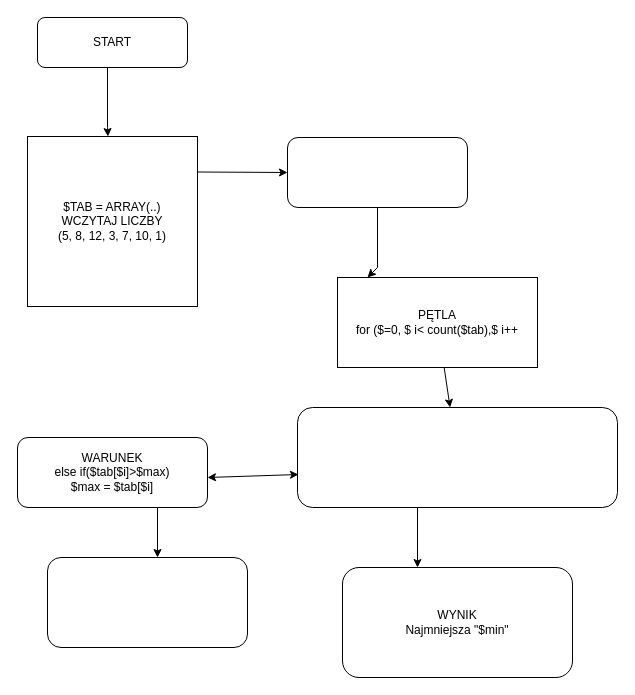
Some shapes in this 635 by 695 pixel diagram are drawn without their labels. Each missing label, with the centre of its shape:
$MIN = $TAB[0] $MAX = $TAB[0]: (377,172)
WARUNEK if($tab[$i] < $min) $min = $tab[$i],: (457,457)
WYNIK Największa: "$max:: (147,602)
